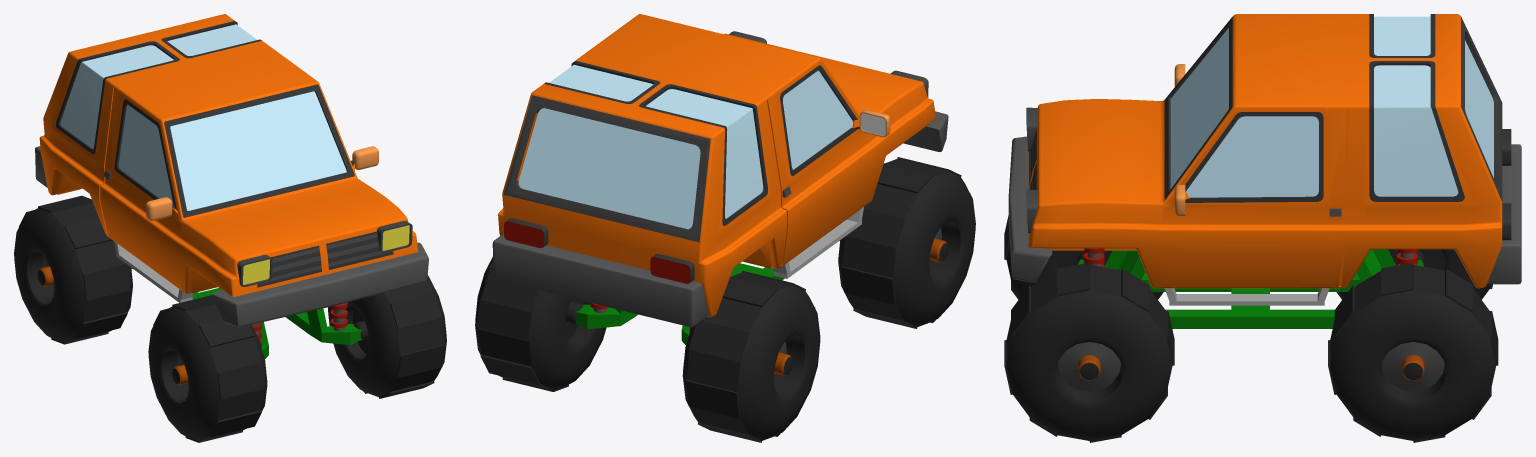
The model's file is car1.fbx.
The picture shows the model from 3 angles, left to right: view 1: azimuth 30°, elevation 25°; view 2: azimuth 150°, elevation 25°; view 3: azimuth 270°, elevation 25°; orthographic projection. The views are drawn at different scales.
Parts seen in each view (by area): view 1: Cube, Cylinder.001, Cylinder.007, Cylinder.006, Cube.006; view 2: Cube, Cylinder.007, Cylinder.001, Cylinder.002, Cube.006; view 3: Cube, Cylinder.002, Cylinder.006, Cube.006, Cylinder.001, Cylinder.007.
Boxes of the visible parts, box(x1,y1,x2,y2) form: Cube: box(35, 14, 428, 327); Cylinder.001: box(148, 295, 267, 442); Cylinder.007: box(14, 195, 132, 344); Cylinder.006: box(328, 275, 446, 398); Cube.006: box(131, 268, 362, 358); Cube: box(492, 14, 948, 327); Cylinder.007: box(682, 270, 820, 442); Cylinder.001: box(838, 157, 975, 328); Cylinder.002: box(475, 257, 606, 391); Cube.006: box(575, 240, 839, 344); Cube: box(1008, 14, 1521, 305); Cylinder.002: box(1328, 263, 1498, 442); Cylinder.006: box(1004, 263, 1174, 442); Cube.006: box(1078, 248, 1423, 328); Cylinder.001: box(1004, 215, 1163, 299); Cylinder.007: box(1336, 249, 1492, 299).
Size of the model in its own units: 365 by 372 by 547.
